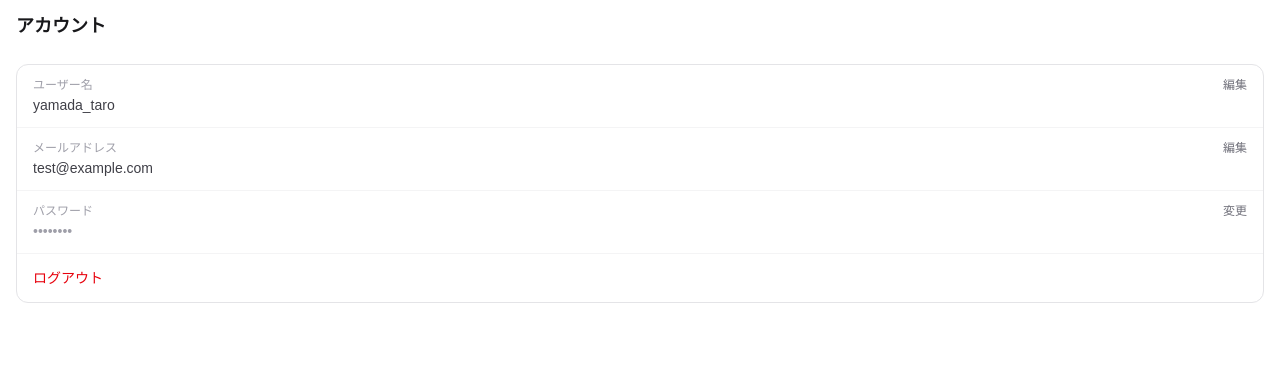
AccountTab › updateUsername 成功時に成功メッセージが表示される
Click the button with aria-label "ユーザー名を編集".
click(1235, 85)  # box [1223,77,1247,93]
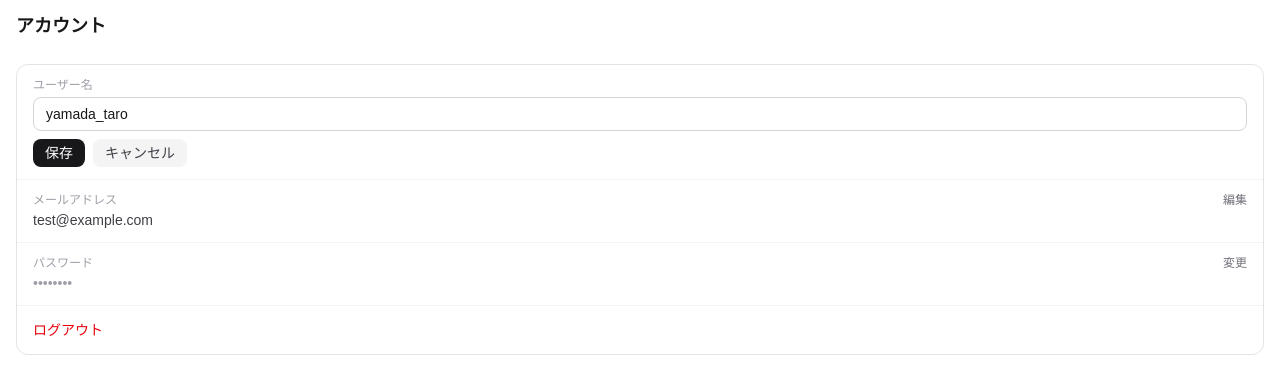
Replace the text in the field named "ユーザー名入力" with "new_name" at (640, 114), box [33,97,1247,131]
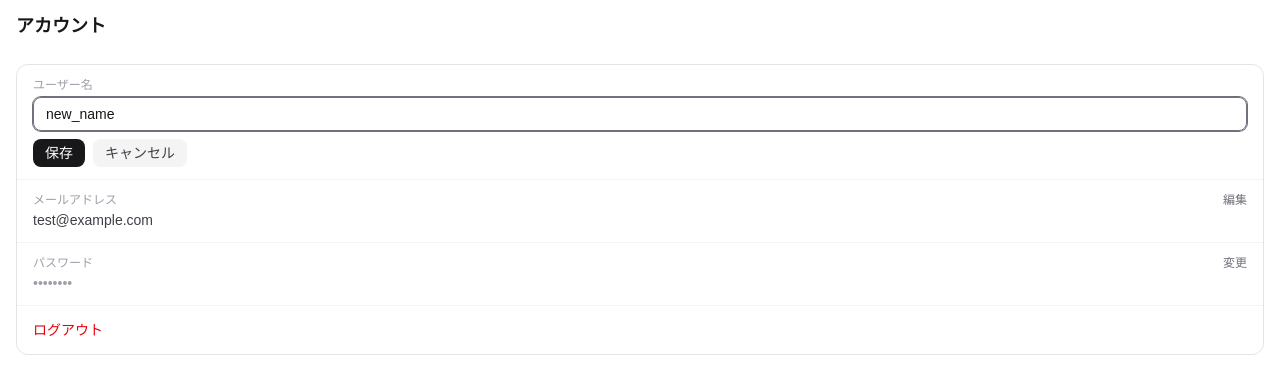
Click the button "保存".
click(59, 153)  # box [33,139,85,167]
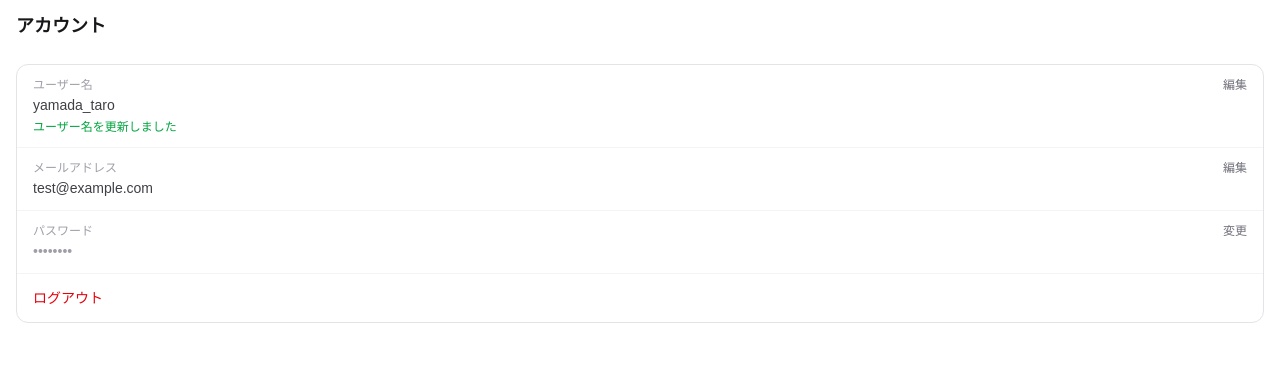
Check: the text "ユーザー名を更新しました" is shown, box [33,120,177,134]
